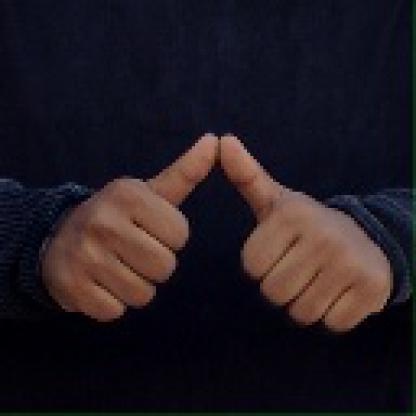A: (43, 131, 397, 335)
